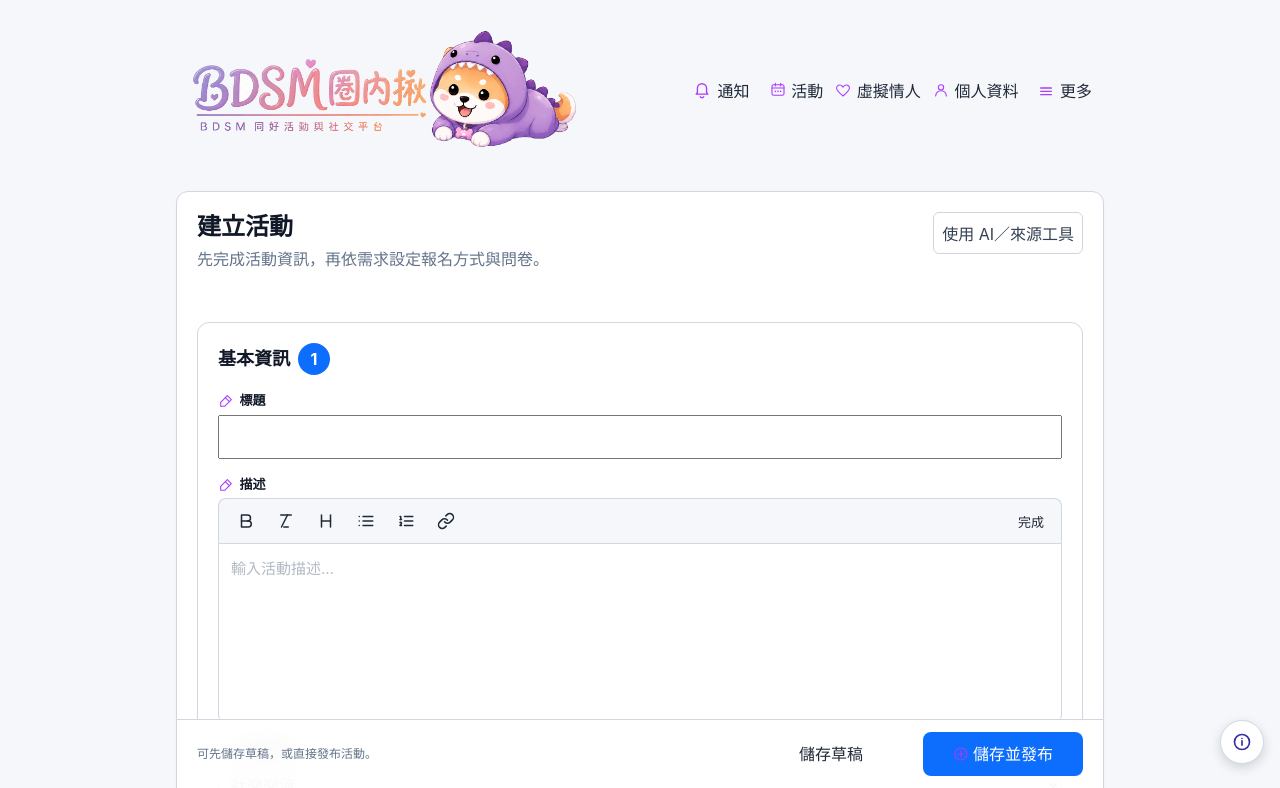
Test: CreateEventPage › imports a Google Form as an external registration source
Click the button "使用 AI／來源工具" at [1008, 233], box [933, 212, 1083, 254]
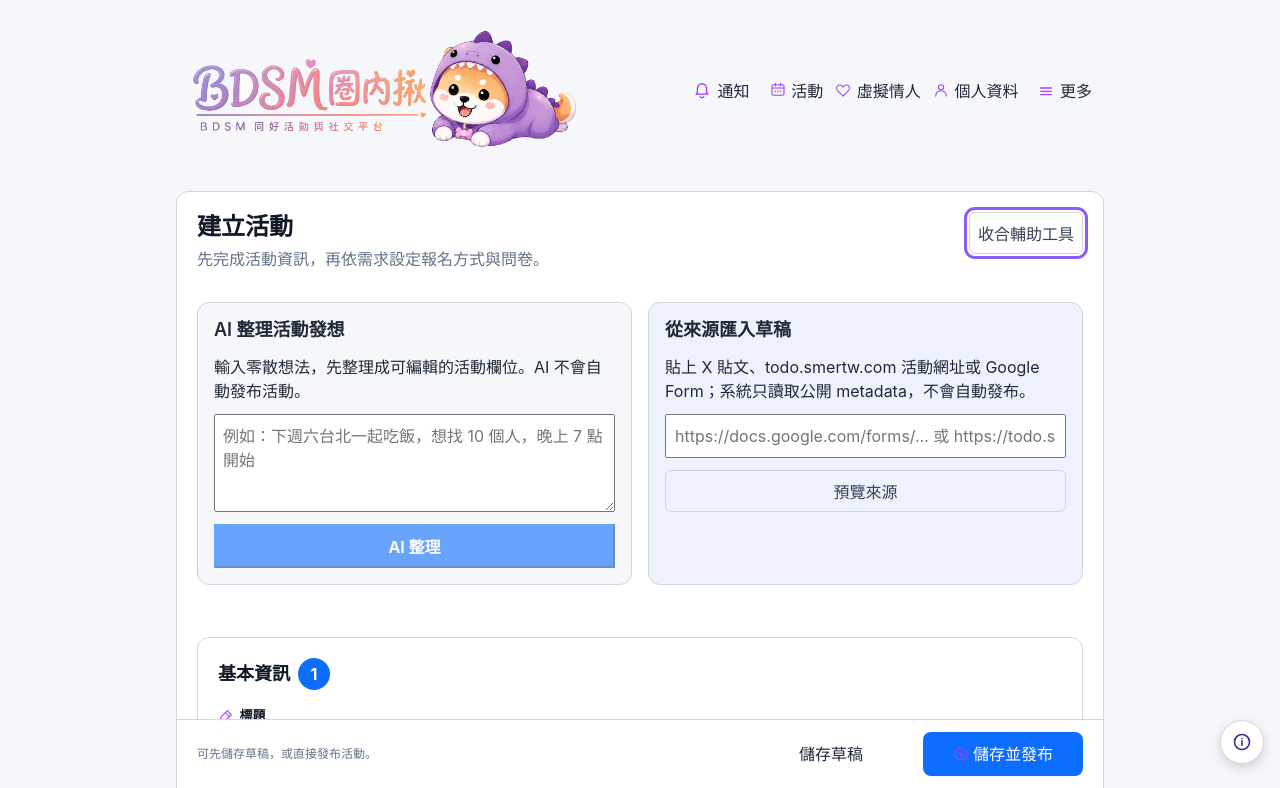
Type "https://docs.google.com/forms/d/e/example/viewform" into the field named "公開活動來源網址" at [866, 436], box [665, 414, 1066, 458]
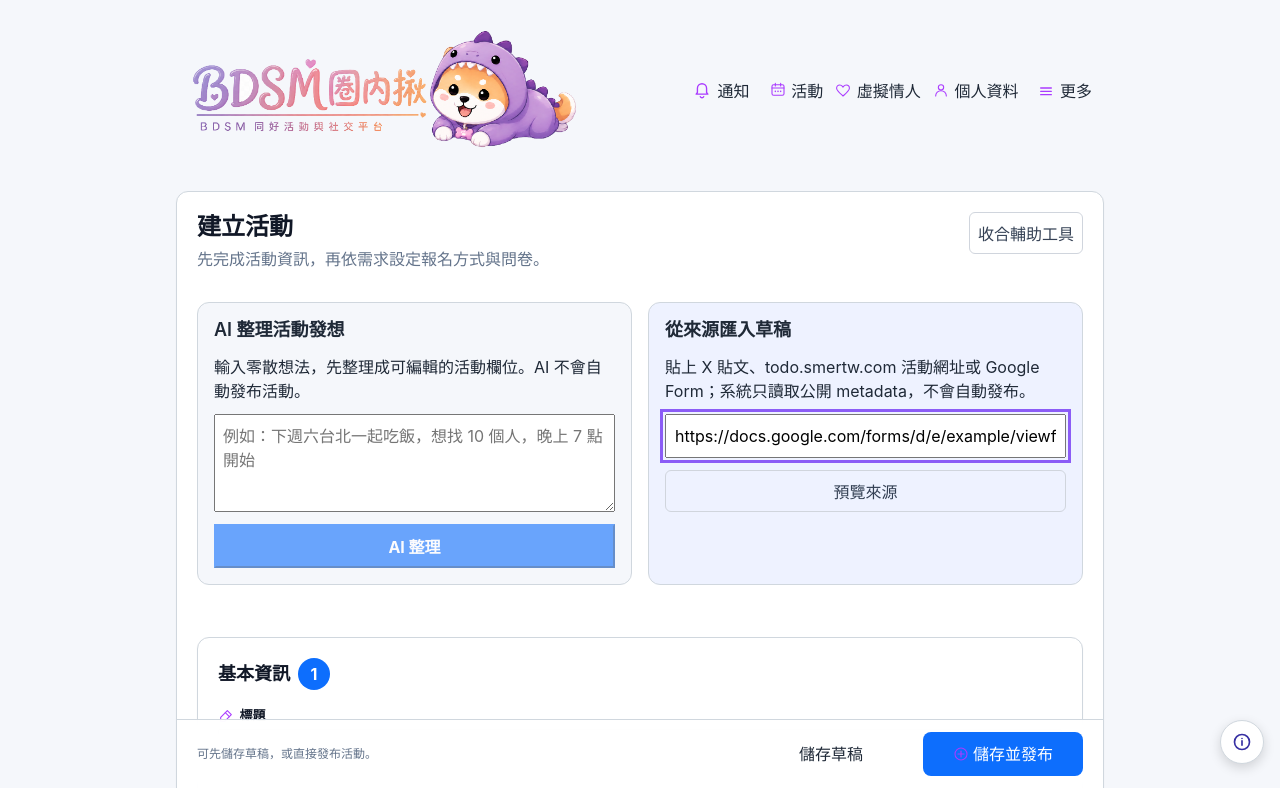
Click the button "預覽來源" at [866, 491], box [665, 470, 1066, 512]
(page scrolled)
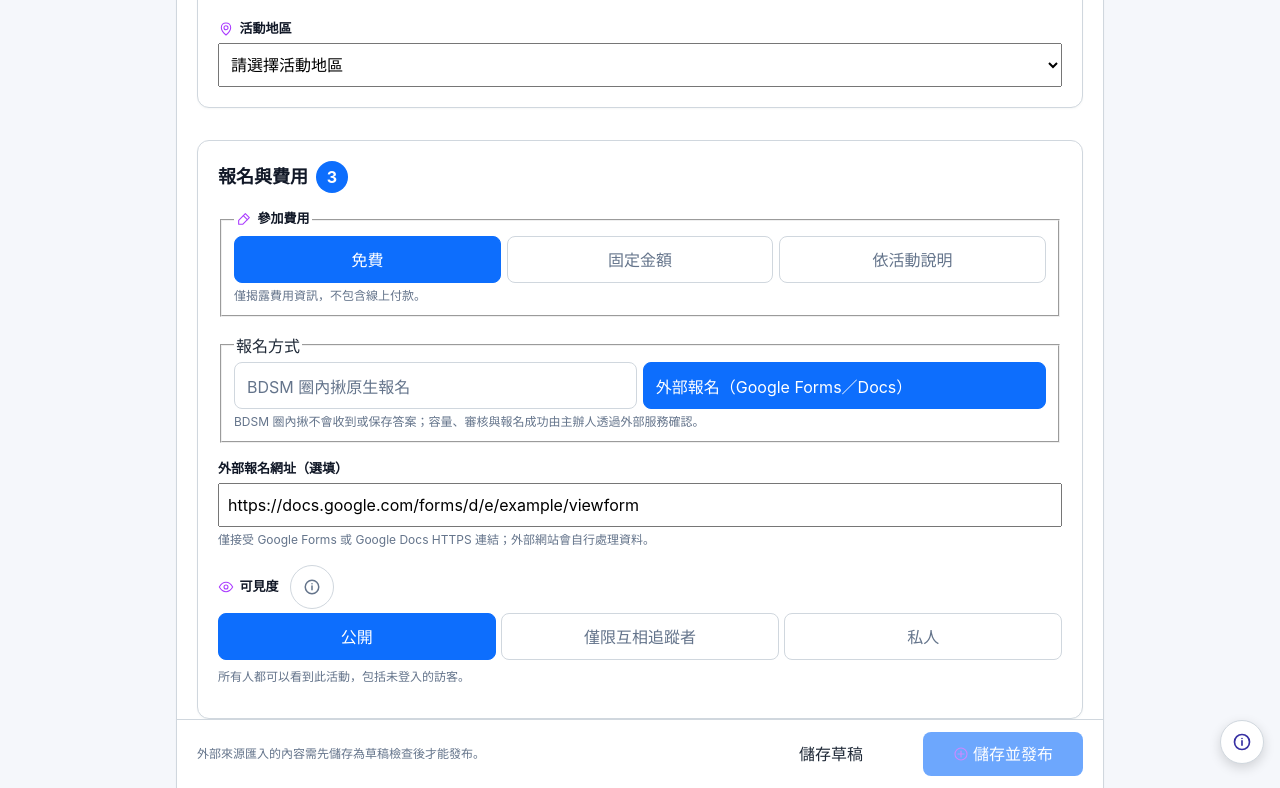
Result: the field labelled "外部報名網址（選填）" holds "https://docs.google.com/forms/d/e/example/viewform" at [218, 483, 1062, 527]
Result: the radio button labelled "外部報名（Google Forms／Docs）" is checked at [643, 362, 1046, 409]
